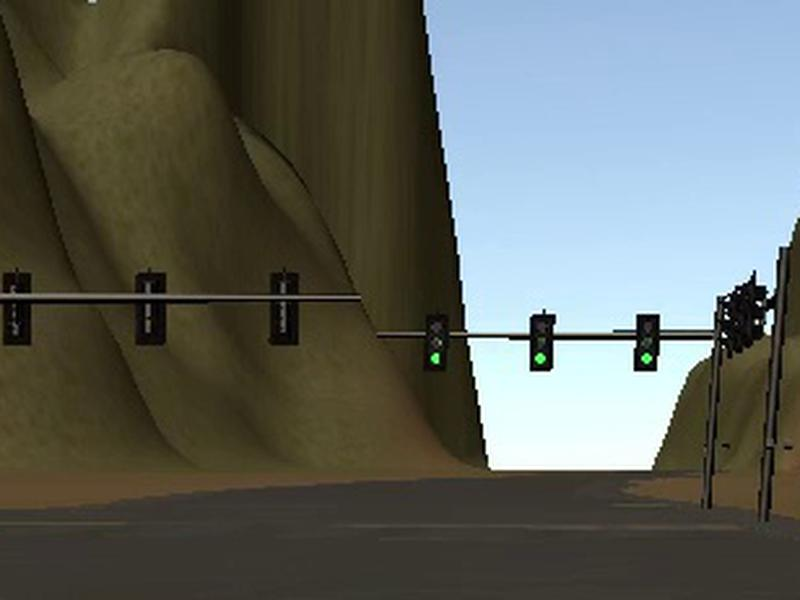Green: (422, 314, 450, 371), (529, 313, 556, 371), (634, 314, 660, 372)
